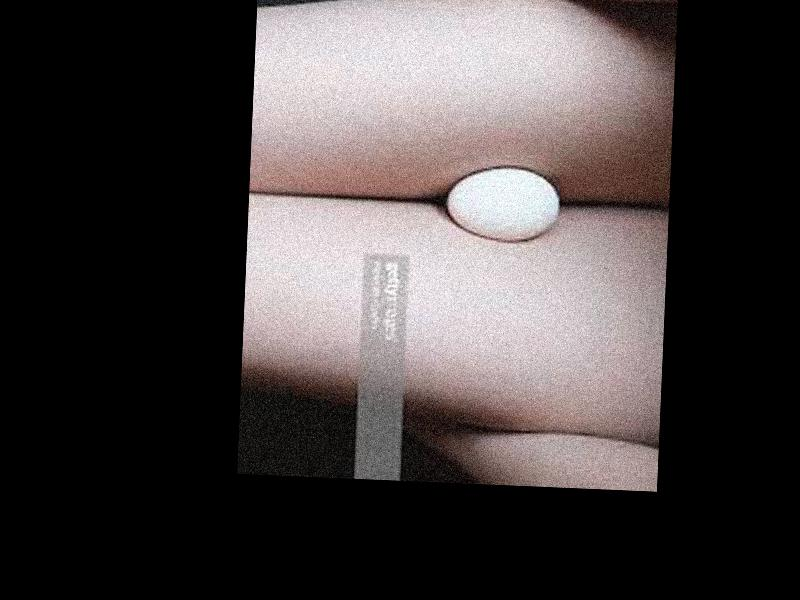Eggs: (446, 165, 559, 243)
